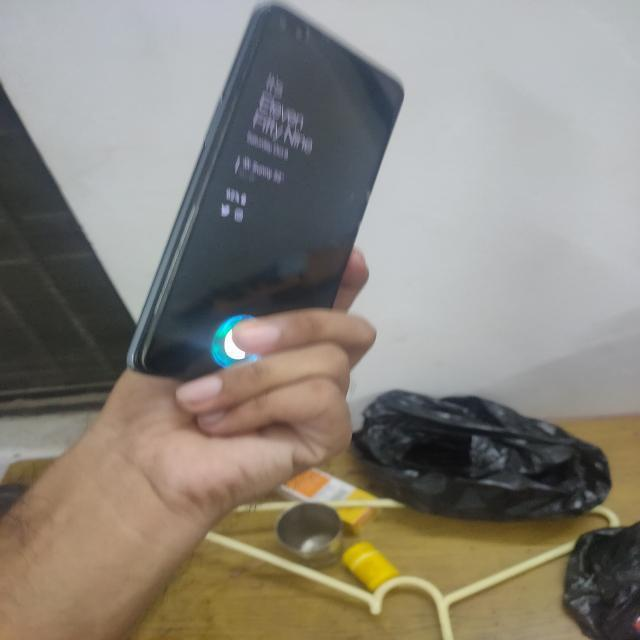Phone: (125, 0, 409, 382)
